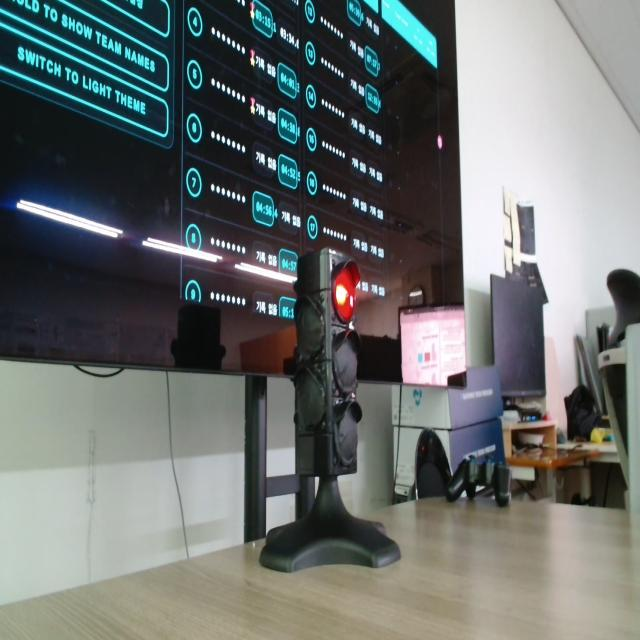red_light: (332, 261, 360, 323)
